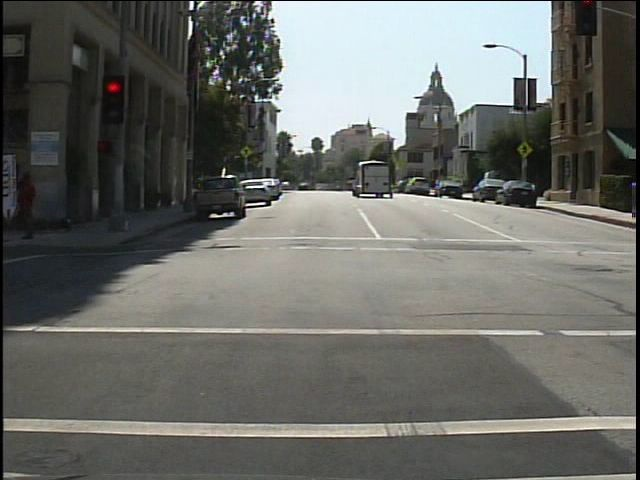person: (9, 166, 50, 245)
